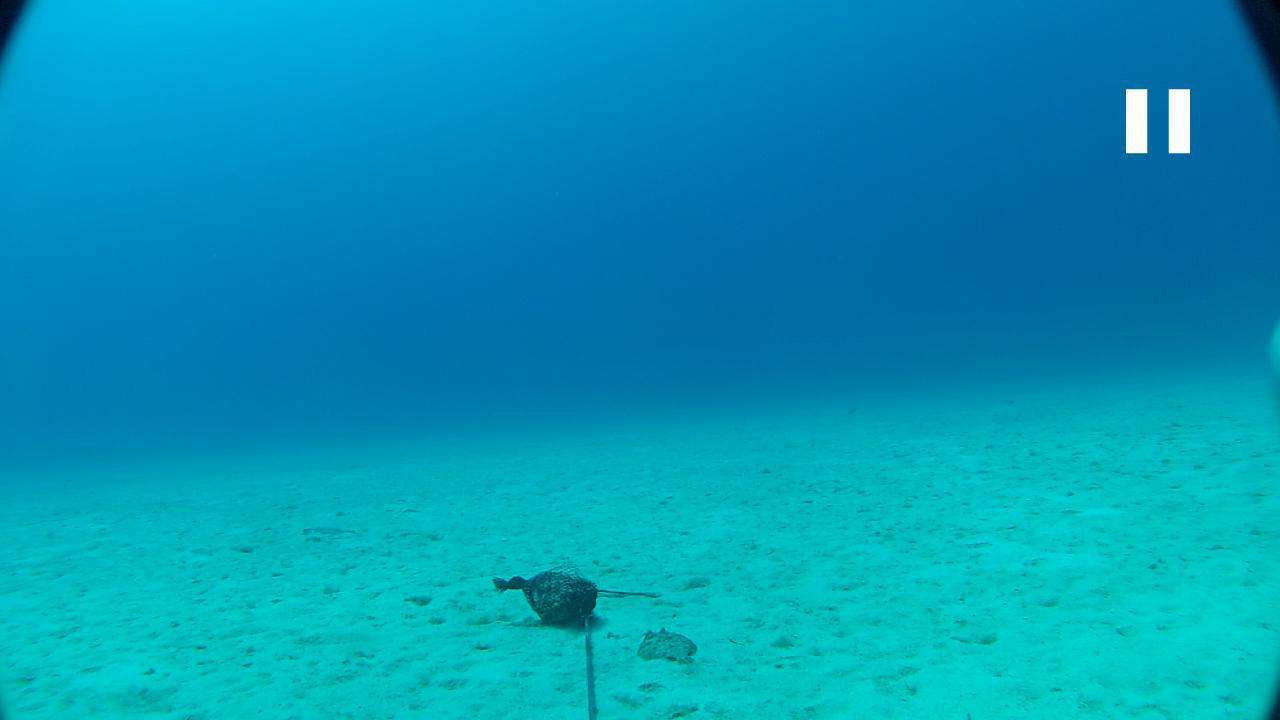bothus: (632, 627, 701, 670)
